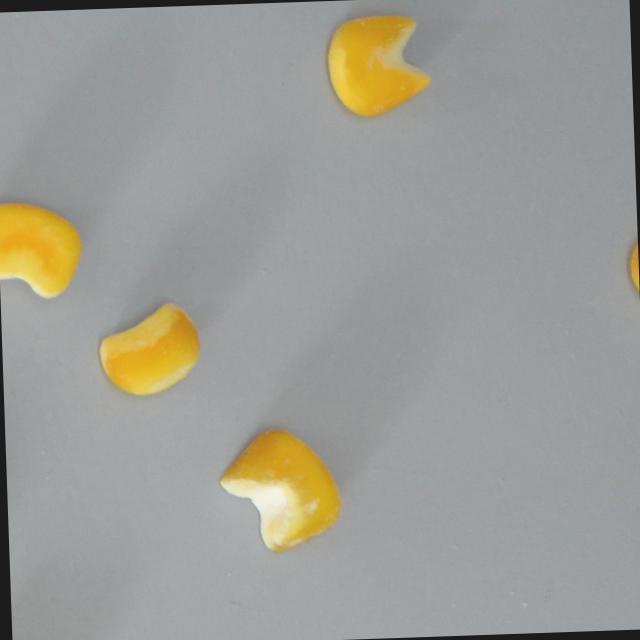no_canjicado: (325, 11, 434, 117), (96, 301, 203, 397), (0, 198, 80, 299)
pelicula: (218, 426, 342, 554)
